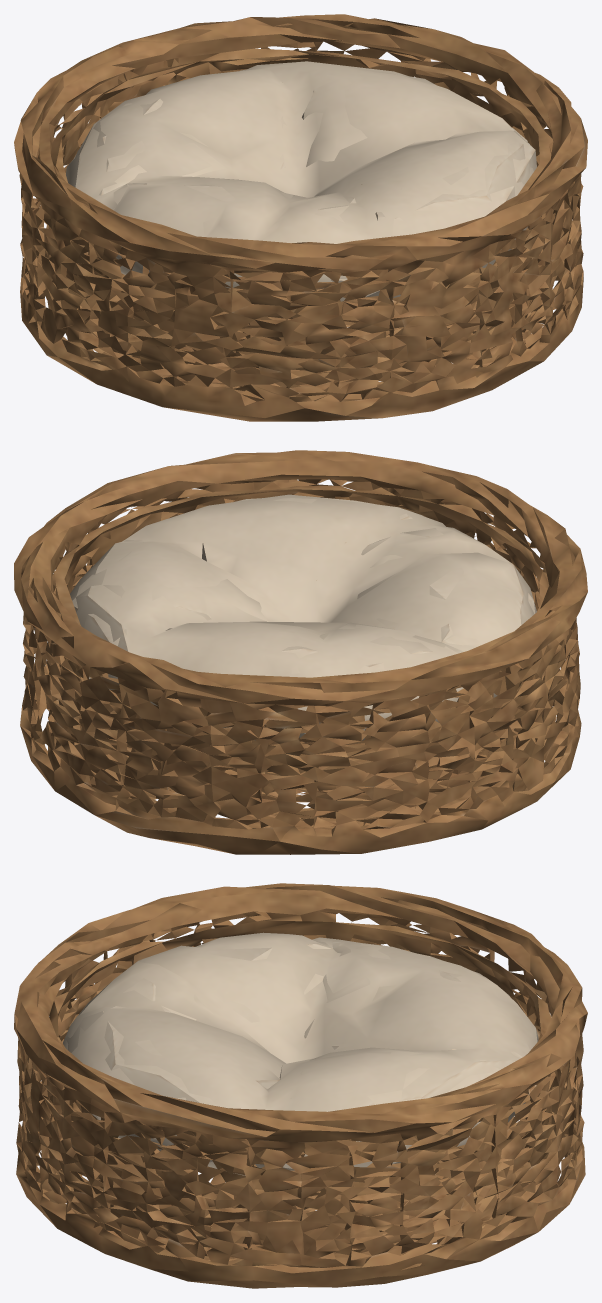
File: catbed.glb
3 renders of one model, top to bottom at view 1: azimuth 30°, elevation 25°; view 2: azimuth 150°, elevation 25°; view 3: azimuth 270°, elevation 25°, orthographic.
Visible parts, largest first — view 1: world; view 2: world; view 3: world.
Part boxes in pixels (x1=…): world: x1=14, y1=14, x2=587, y2=421; world: x1=14, y1=450, x2=587, y2=854; world: x1=14, y1=883, x2=587, y2=1288.
Size of the model in its own units: 0.6 by 0.2087 by 0.6022.
Materials: 1 (1 with a texture image).
